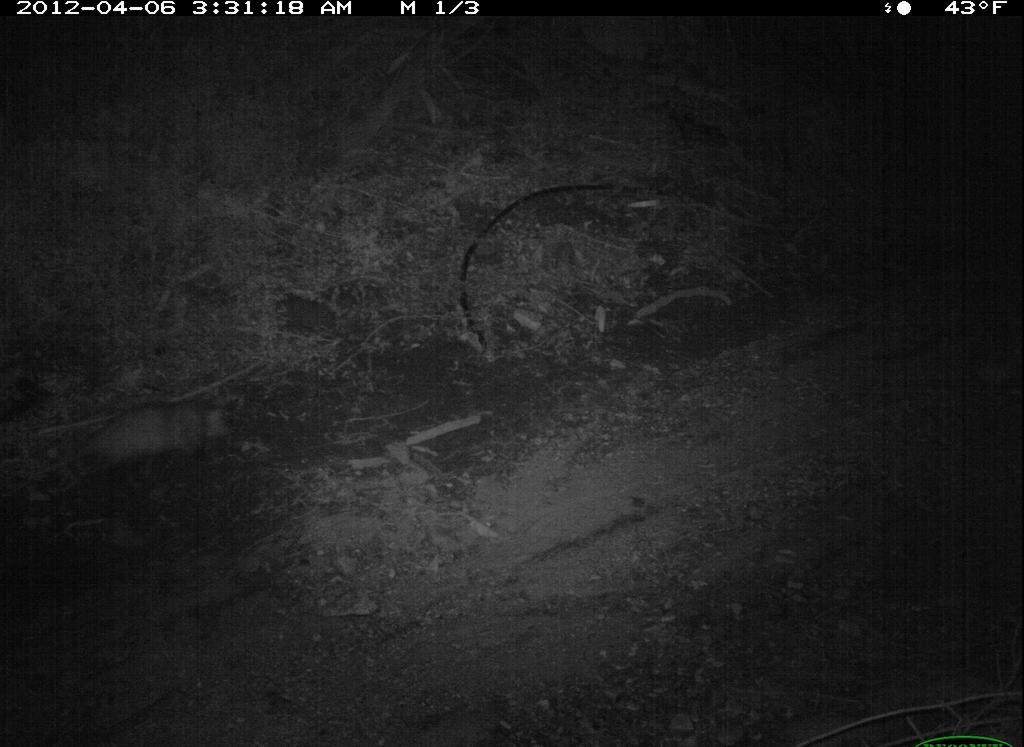opossum: (33, 388, 251, 513)
